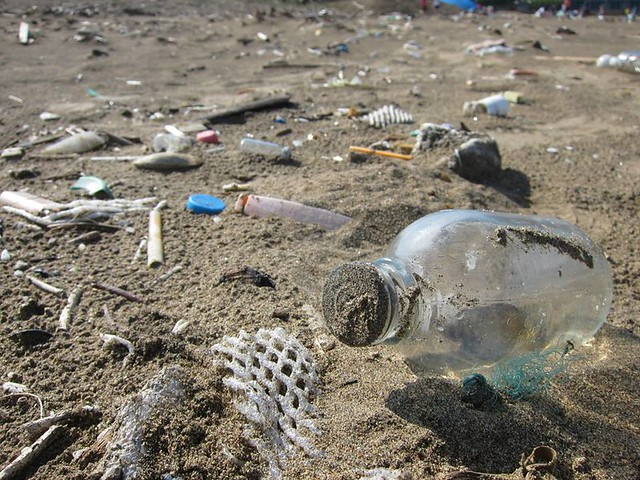General waste: (230, 339, 309, 468), (149, 205, 164, 272), (186, 195, 226, 217)
glass: (373, 215, 605, 376)
